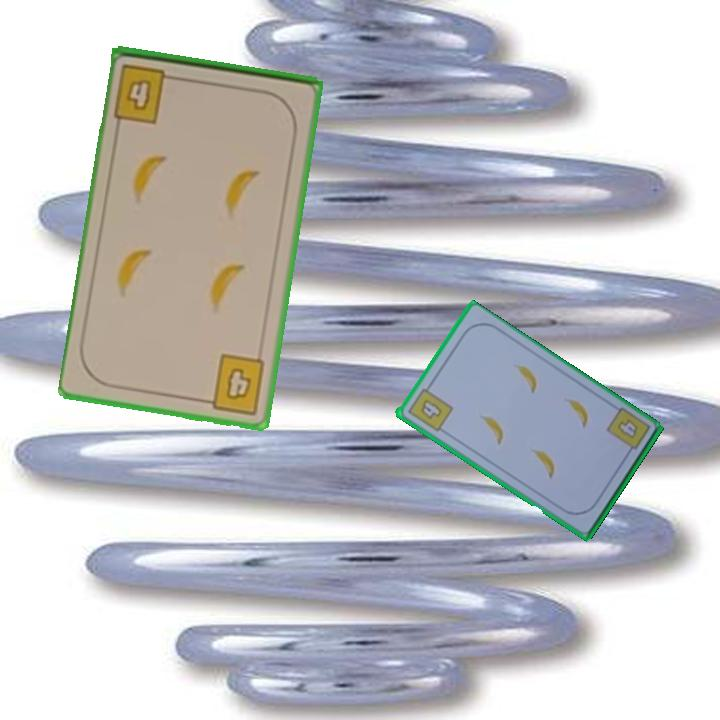4b: (198, 350, 269, 418), (110, 61, 182, 126), (403, 380, 455, 434), (613, 416, 641, 442)
